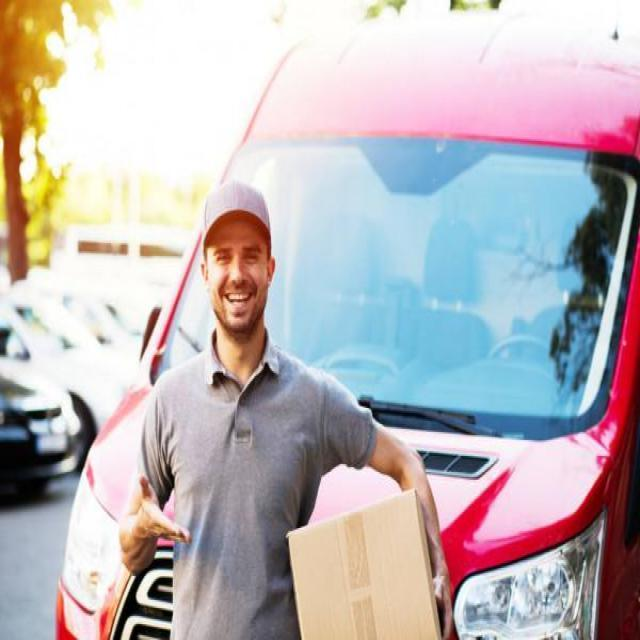box: (281, 484, 445, 640)
